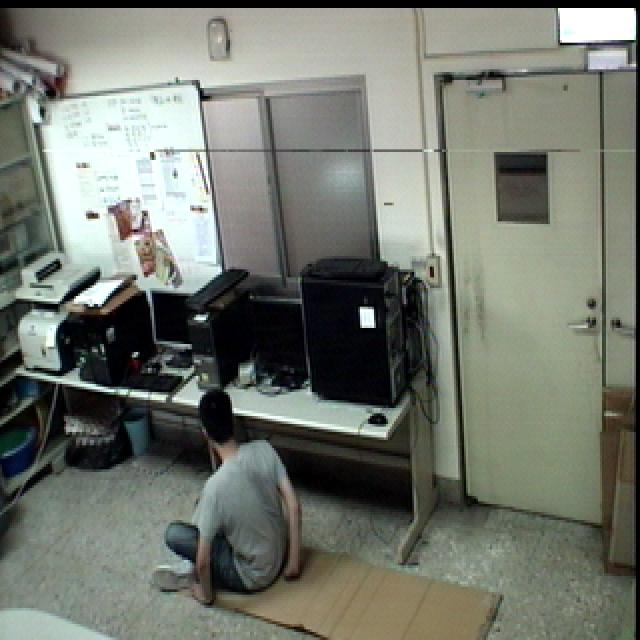sit: (140, 381, 313, 622)
